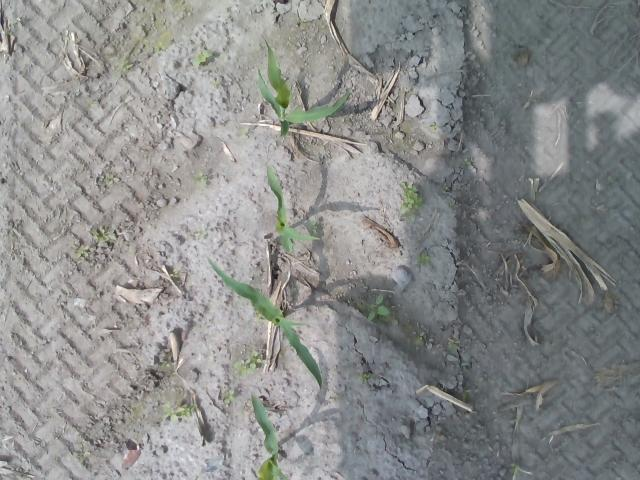Maize: (206, 255, 324, 390), (256, 34, 350, 136), (264, 162, 321, 253), (250, 395, 290, 480)
Weeds: (400, 180, 424, 216), (234, 350, 264, 376), (366, 294, 391, 319), (164, 400, 194, 419), (192, 50, 214, 68), (92, 227, 116, 242), (221, 389, 236, 402), (193, 170, 208, 183), (75, 243, 88, 258), (119, 56, 129, 72), (447, 336, 460, 348), (418, 254, 432, 265), (509, 462, 520, 473), (427, 122, 439, 132), (414, 336, 424, 346), (360, 373, 370, 382), (160, 362, 170, 368)
